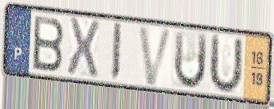B: (31, 14, 66, 75)
I: (109, 21, 124, 84)
U: (206, 32, 244, 96), (172, 29, 209, 92)
V: (137, 24, 176, 88)
X: (65, 15, 102, 80)
